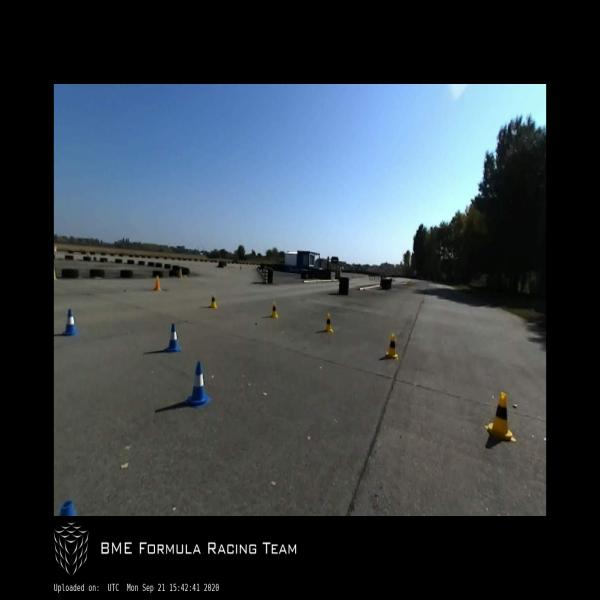blue_cone: (187, 361, 211, 409), (164, 323, 181, 354), (62, 310, 78, 336)
yellow_cone: (485, 391, 517, 442), (386, 333, 398, 359), (323, 313, 333, 333), (270, 301, 278, 318), (209, 293, 217, 309)
